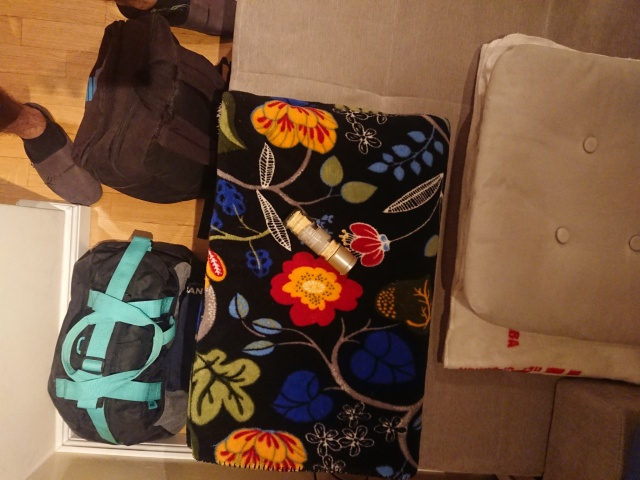Kotanyi Garlic Granules 70g: (281, 205, 360, 277)
